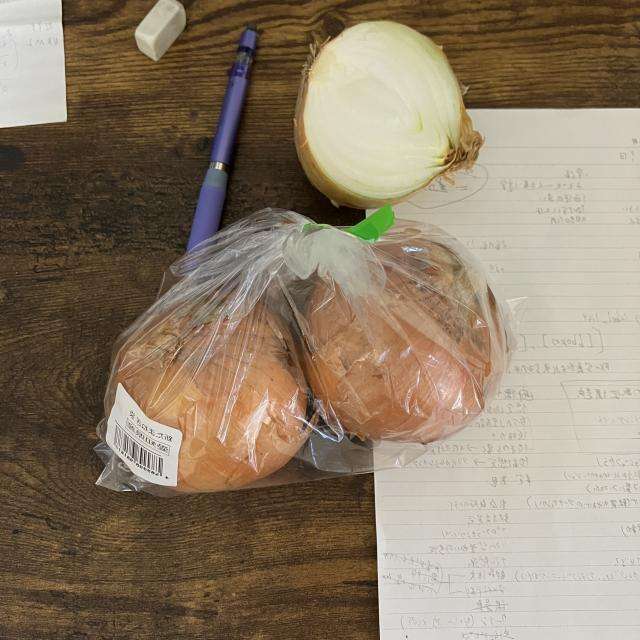onion: (298, 222, 509, 452), (99, 288, 311, 500), (288, 17, 486, 215)
